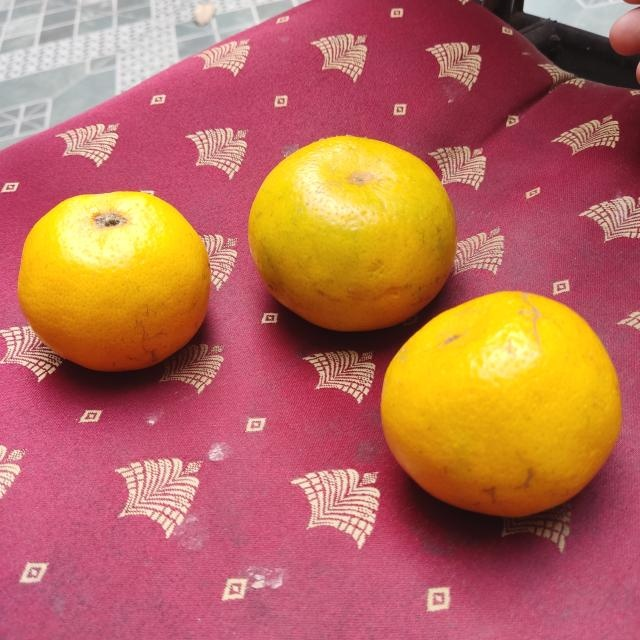agrume: (379, 291, 621, 517), (248, 135, 456, 333), (16, 189, 208, 372)
